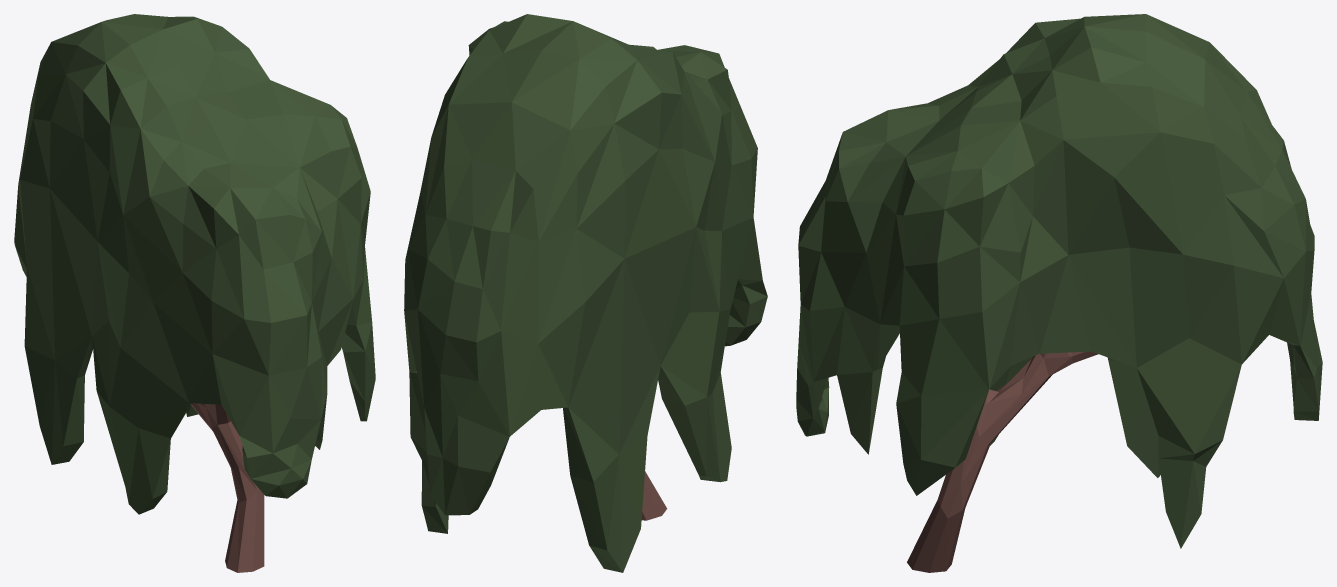
Rendered from Willow_1.lod1.glb.
3 renders of one model, left to right at view 1: azimuth 30°, elevation 25°; view 2: azimuth 150°, elevation 25°; view 3: azimuth 270°, elevation 25°, orthographic. The views are drawn at different scales.
Visible parts, largest first — view 1: Willow_1; view 2: Willow_1; view 3: Willow_1.
Part boxes in pixels (x1=…): Willow_1: x1=14, y1=14, x2=375, y2=572; Willow_1: x1=404, y1=14, x2=767, y2=572; Willow_1: x1=796, y1=14, x2=1322, y2=572.
Size of the model in its own units: 1.45 by 2.85 by 2.56.
